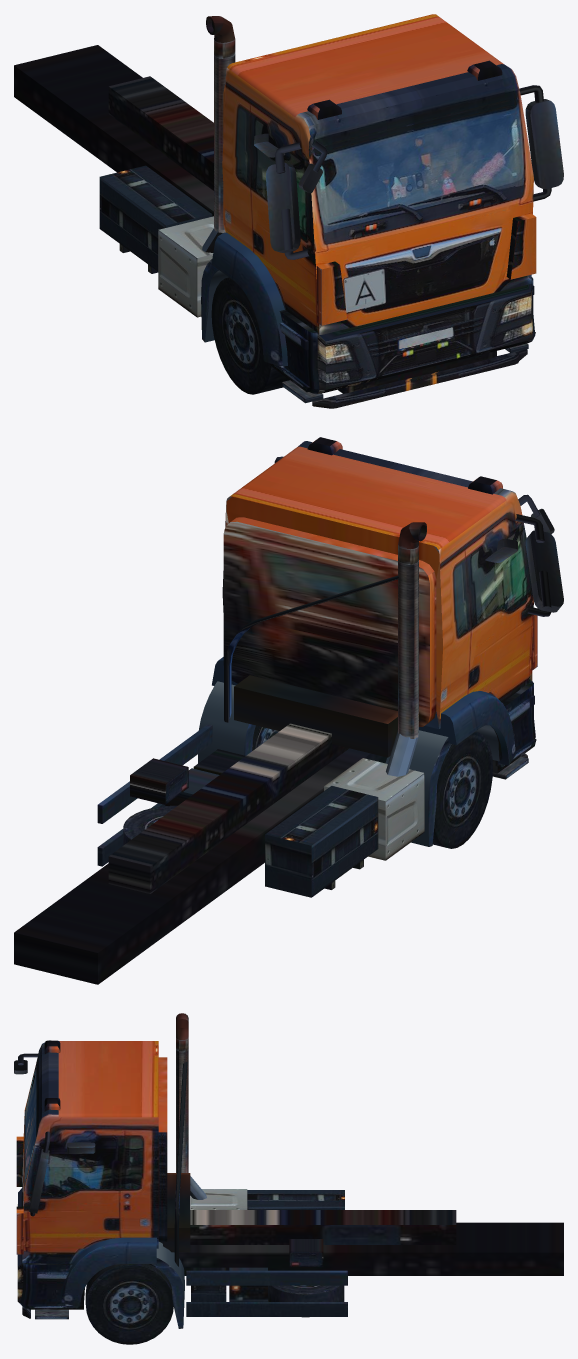
The model's file is Truck.fbx.
3 renders of one model, top to bottom at view 1: azimuth 30°, elevation 25°; view 2: azimuth 150°, elevation 25°; view 3: azimuth 270°, elevation 25°, orthographic. The views are drawn at different scales.
Visible parts, largest first — view 1: Object_8; view 2: Object_8; view 3: Object_8.
Part boxes in pixels (box(x1,y1,x2,y2)): Object_8: box(14, 14, 563, 408); Object_8: box(14, 437, 563, 984); Object_8: box(14, 1013, 563, 1344).
Bounding box in the file's own units: 224 × 256 × 503.
Materials: 1 (1 with a texture image).
